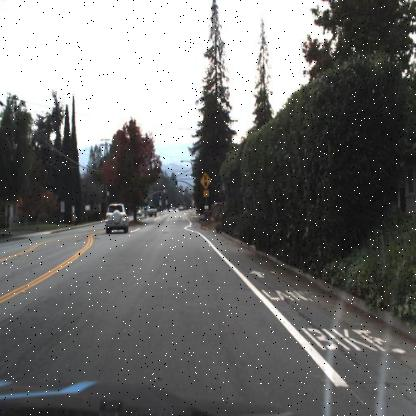car: (104, 203, 128, 237), (142, 201, 157, 219)
